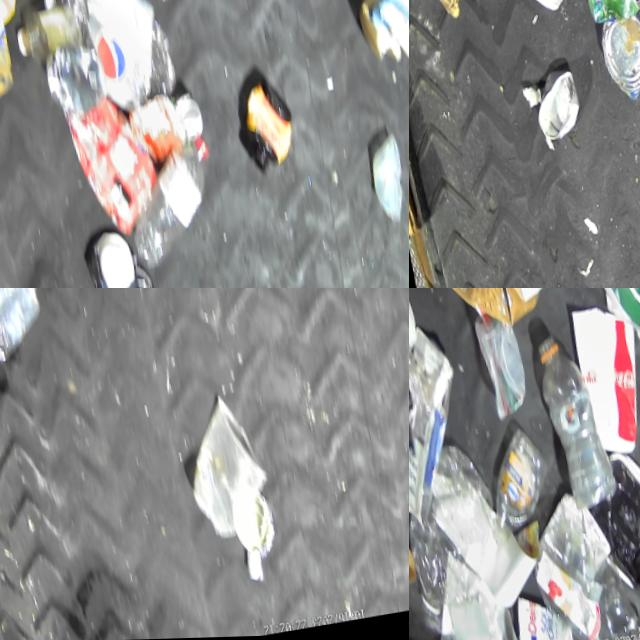can: (70, 224, 165, 288), (592, 16, 640, 106), (526, 71, 582, 147), (579, 0, 640, 27)
non_white_jug: (419, 288, 554, 339)
plastic_bottle: (27, 0, 181, 132), (526, 327, 617, 519), (112, 128, 222, 271), (4, 0, 78, 74), (0, 288, 49, 375)
